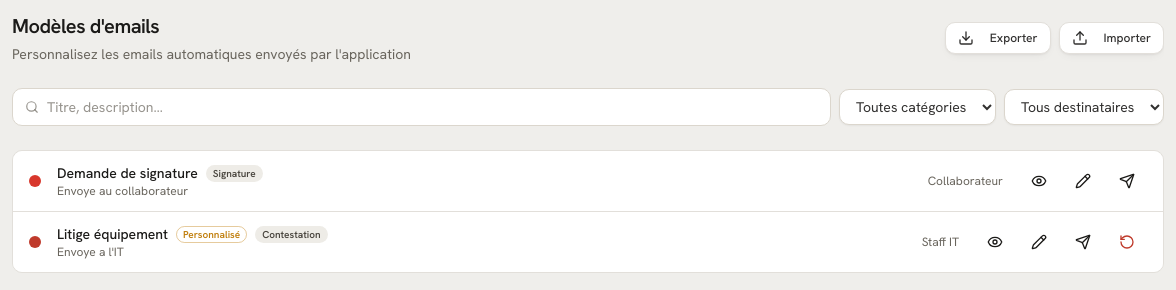
Test: TemplatesPage › filtre la liste par la recherche texte (titre, description)
The width and height of the screenshot is (1176, 290).
Expected: the text "Demande de signature" is shown, x1=57 y1=163 x2=198 y2=183
Type "Litige" into the field named "Rechercher un modèle d'email". click: point(432, 107)
box: x1=47 y1=97 x2=818 y2=117
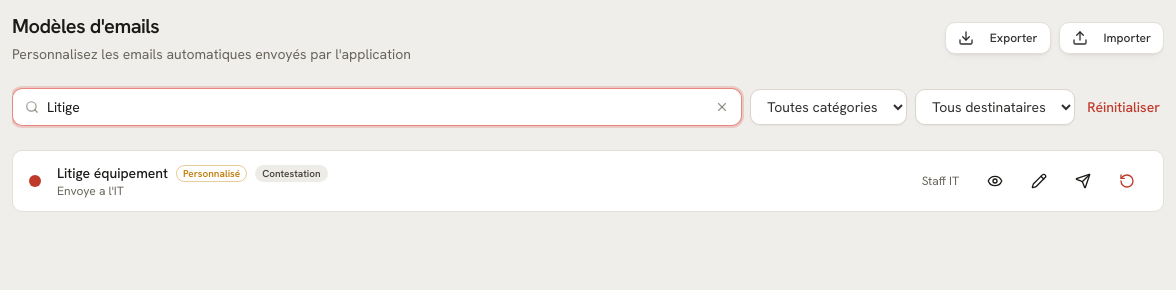
Expected: the text "Litige équipement" is shown, x1=57 y1=163 x2=168 y2=183
Now the text "Demande de signature" is gone
